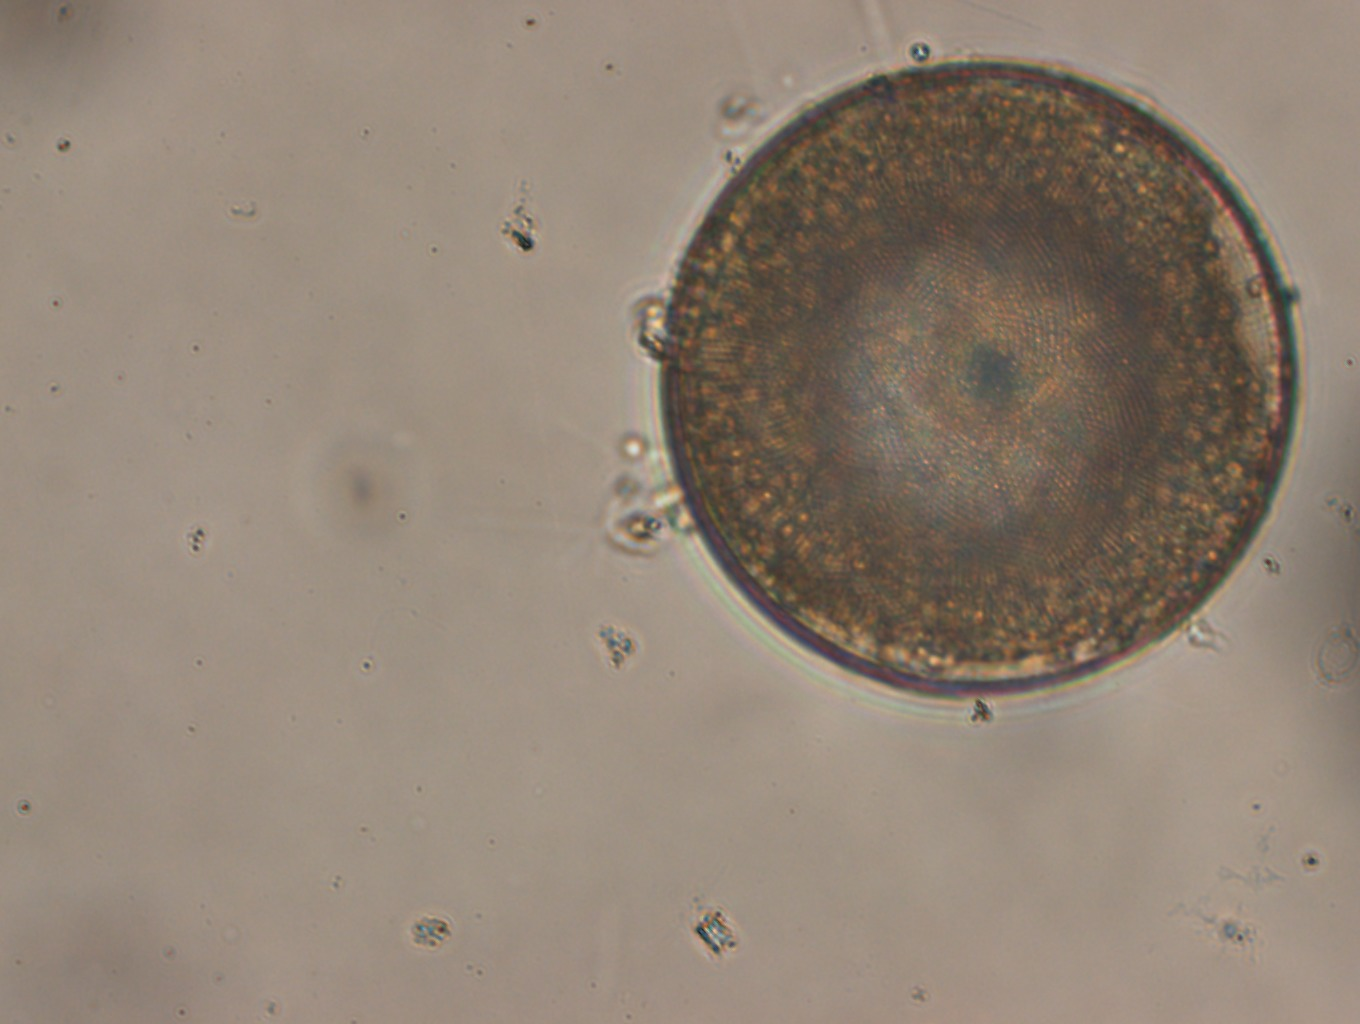coscinodiscus: (653, 55, 1304, 701)
